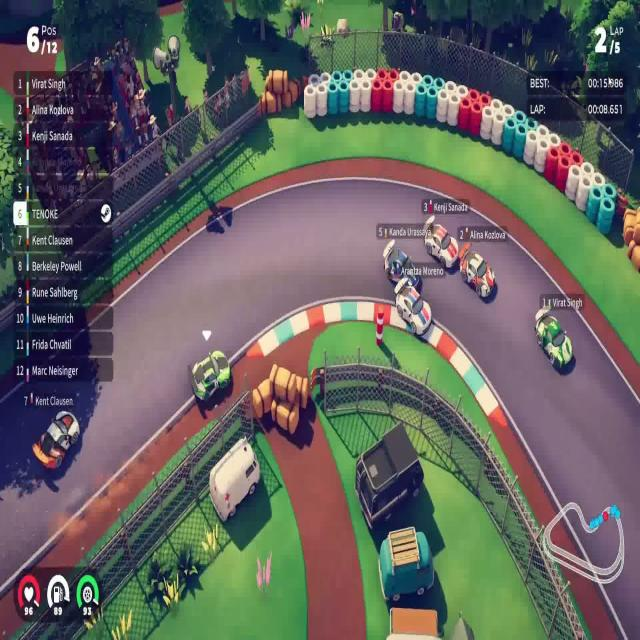car: (32, 409, 80, 472), (534, 304, 573, 371), (190, 349, 232, 404), (458, 242, 496, 300), (394, 281, 432, 336), (422, 215, 458, 270), (382, 238, 413, 283)
